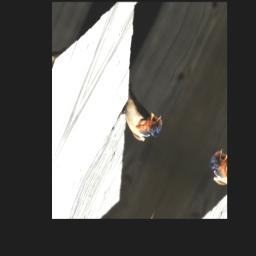Swallow: (113, 92, 171, 150)
